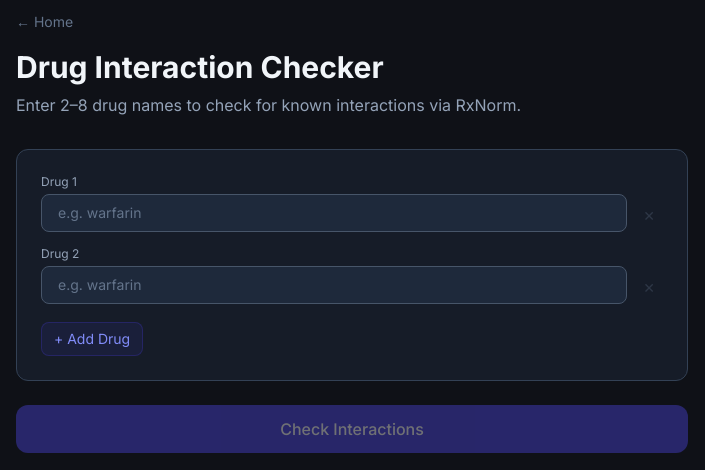
Test case: InteractionsClient › Check Interactions button enabled when 2+ drugs filled
The width and height of the screenshot is (705, 470).
Type "warfarin" into the field with test id "drug-input-0" at (334, 213), box [41,194,627,232]
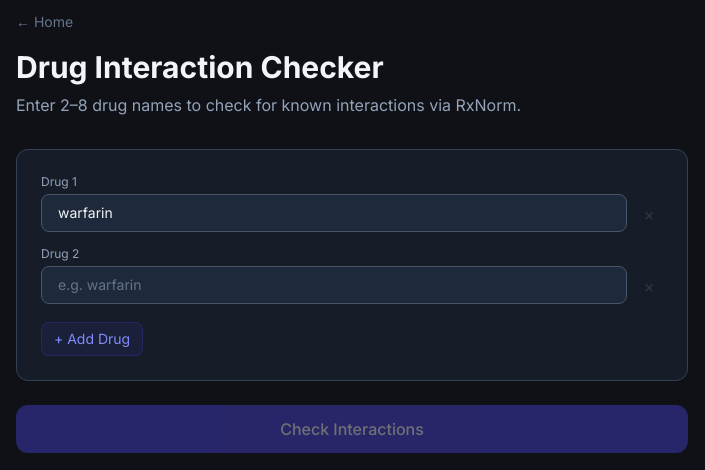
Type "aspirin" into the field with test id "drug-input-1" at (334, 285), box [41,266,627,304]
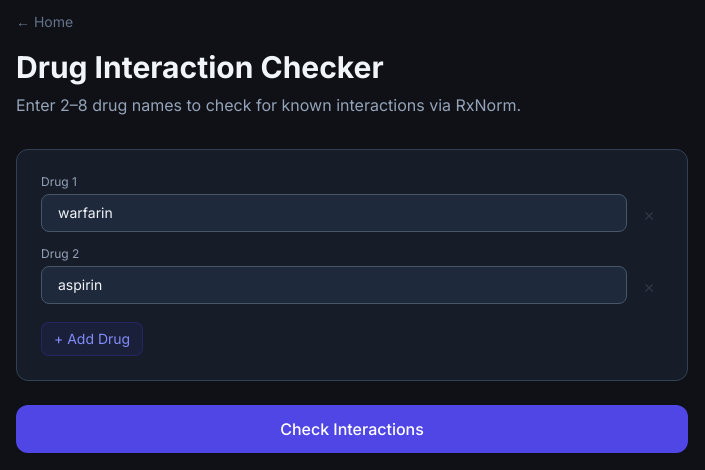
Expected: the button with test id "check-button" is enabled, [16,405,688,453]
